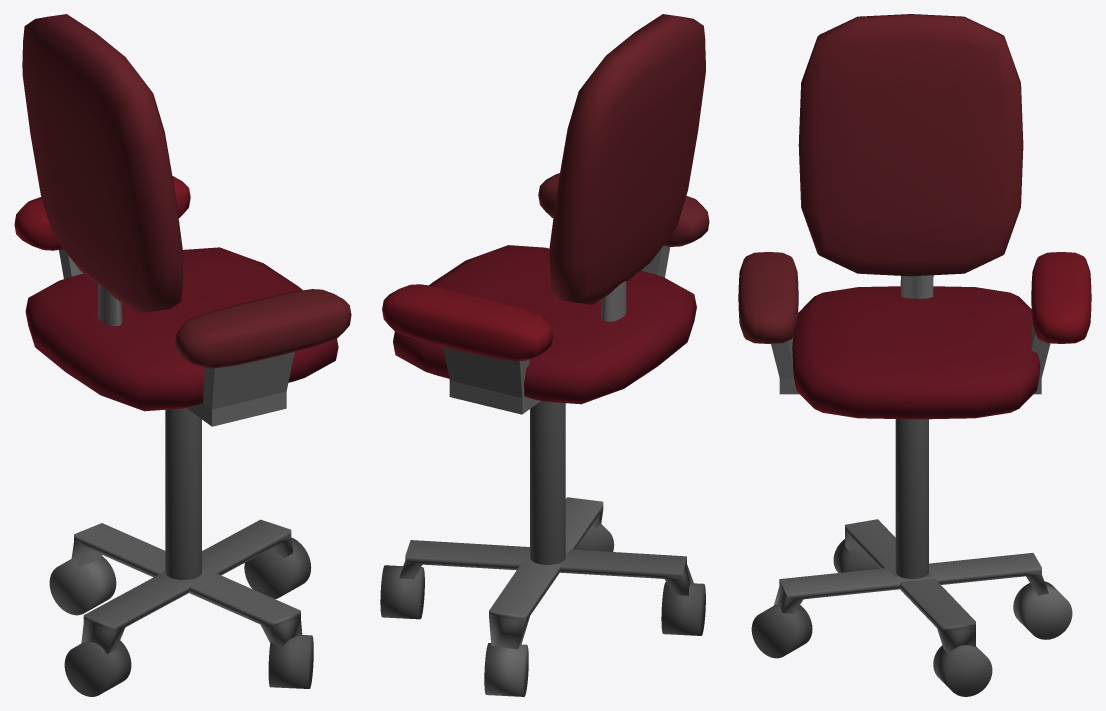
File: ofissandalye.fbx
3 renders of one model, left to right at view 1: azimuth 30°, elevation 25°; view 2: azimuth 150°, elevation 25°; view 3: azimuth 270°, elevation 25°, orthographic. The views are drawn at different scales.
Visible parts, largest first — view 1: Cube.004, Cube.005, Cube.007, Cube.010, Cube.009, Cylinder, Cube.006, Cylinder.002, Cylinder.004, Cylinder.003, Cylinder.005, Cube.008 (+1 smaller); view 2: Cube.004, Cube.005, Cube.008, Cube.009, Cylinder, Cube.010, Cube.006, Cylinder.002, Cylinder.003, Cylinder.004, Cube.007, Cylinder.001 (+1 smaller); view 3: Cube.004, Cube.005, Cube.010, Cylinder, Cube.007, Cube.008, Cube.009, Cylinder.002, Cylinder.005, Cylinder.003, Cube.006, Cylinder.004 (+1 smaller).
Part boxes in pixels (bbox=[...]): Cube.004: bbox=[22, 14, 183, 313]; Cube.005: bbox=[25, 247, 338, 411]; Cube.007: bbox=[175, 289, 351, 368]; Cube.010: bbox=[71, 523, 302, 649]; Cube.009: bbox=[81, 519, 293, 654]; Cylinder: bbox=[165, 408, 201, 579]; Cube.006: bbox=[59, 249, 294, 426]; Cylinder.002: bbox=[49, 556, 116, 615]; Cylinder.004: bbox=[64, 640, 131, 696]; Cylinder.003: bbox=[244, 537, 311, 599]; Cylinder.005: bbox=[268, 635, 313, 688]; Cube.008: bbox=[14, 176, 190, 250]; Cube.004: bbox=[549, 14, 705, 304]; Cube.005: bbox=[393, 245, 696, 404]; Cube.008: bbox=[382, 284, 553, 361]; Cube.009: bbox=[399, 540, 693, 595]; Cylinder: bbox=[530, 401, 565, 564]; Cube.010: bbox=[489, 497, 603, 649]; Cube.006: bbox=[443, 246, 670, 414]; Cylinder.002: bbox=[484, 643, 528, 696]; Cylinder.003: bbox=[380, 565, 424, 619]; Cylinder.004: bbox=[661, 582, 705, 635]; Cube.007: bbox=[538, 173, 709, 246]; Cylinder.001: bbox=[601, 281, 626, 321]; Cube.004: bbox=[798, 14, 1023, 276]; Cube.005: bbox=[792, 286, 1040, 419]; Cube.010: bbox=[774, 553, 1048, 614]; Cylinder: bbox=[895, 419, 928, 578]; Cube.007: bbox=[738, 252, 798, 343]; Cube.008: bbox=[1031, 252, 1091, 343]; Cube.009: bbox=[845, 519, 975, 653]; Cylinder.002: bbox=[1013, 581, 1072, 639]; Cylinder.005: bbox=[751, 605, 812, 658]; Cylinder.003: bbox=[933, 645, 992, 696]; Cube.006: bbox=[771, 315, 1050, 394]; Cylinder.004: bbox=[833, 539, 879, 572].
Bounding box in the file's own units: 269 × 581 × 318.
